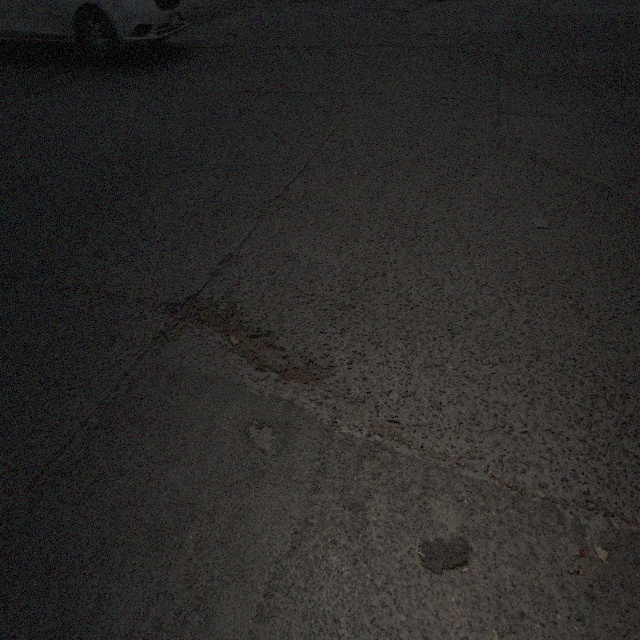pothole: (163, 289, 328, 400)
